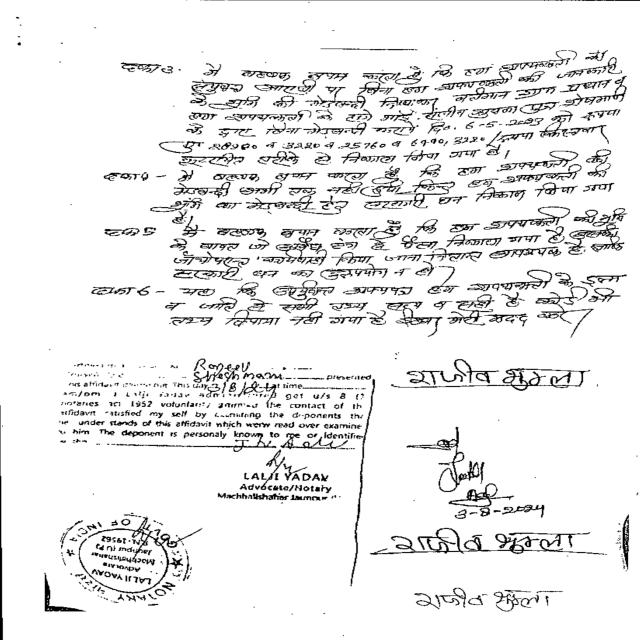logo: (53, 504, 197, 606)
signature: (405, 426, 486, 455), (428, 454, 490, 490)
